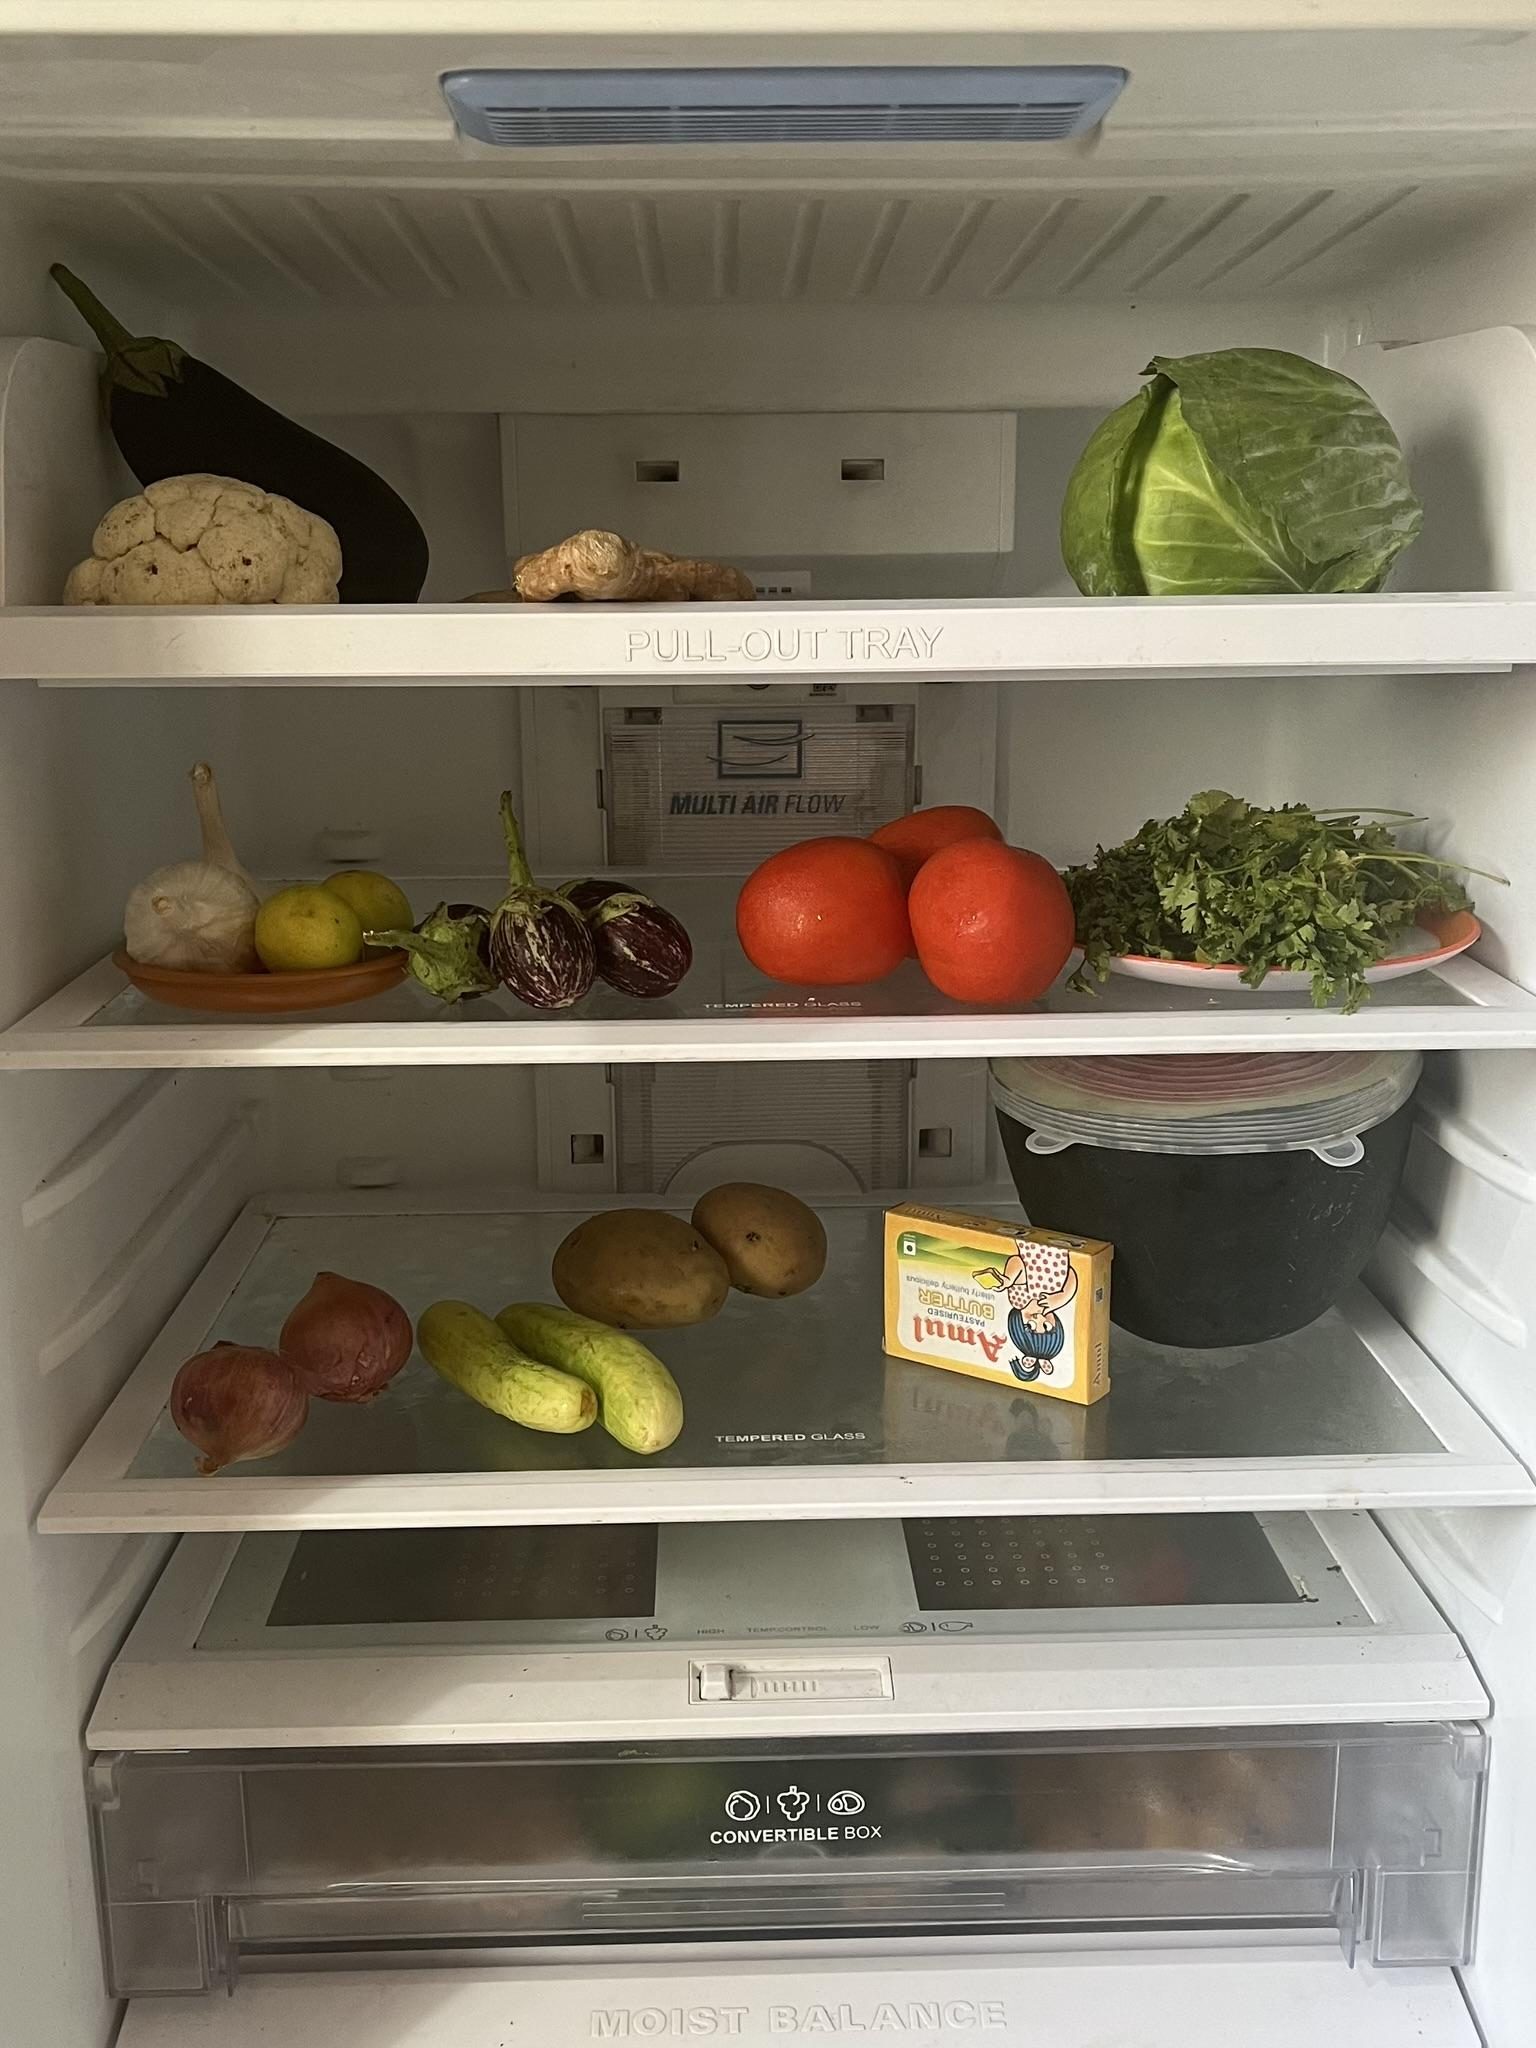bringal: (37, 250, 437, 603), (407, 784, 710, 1013)
butter: (876, 1190, 1120, 1413)
cabbage: (1054, 340, 1426, 590)
cauliflower: (56, 463, 363, 603)
coriander: (1083, 780, 1501, 959)
cucumber: (416, 1284, 700, 1453)
garlic: (131, 763, 260, 971)
ginger: (481, 516, 763, 597)
lemon: (257, 850, 434, 963)
onion: (166, 1259, 426, 1467)
potato: (557, 1184, 829, 1324)
tomato: (737, 800, 1079, 1003)
watermelon: (979, 1056, 1454, 1353)
